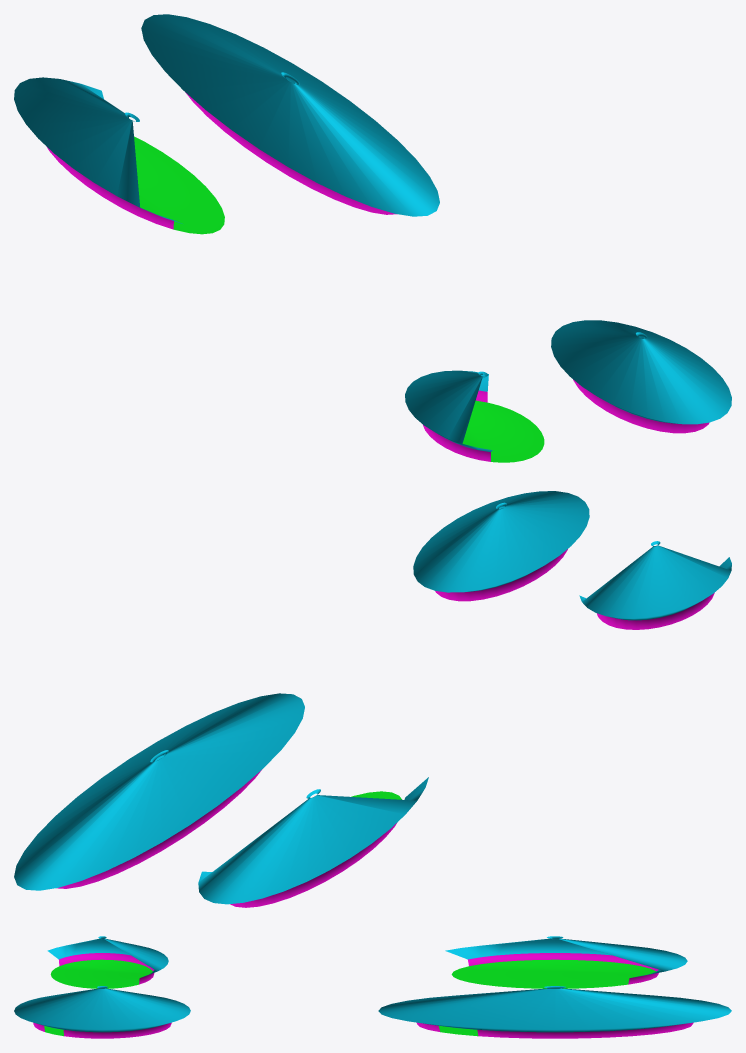
Rendered from choza.fbx.
3 views of the same model, one above another, from view 1: azimuth 30°, elevation 25°; view 2: azimuth 150°, elevation 25°; view 3: azimuth 270°, elevation 25° (orthographic). The views are drawn at different scales.
Visible parts, largest first — view 1: Cylinder, Cylinder.001, Cylinder.003, Cylinder.002; view 2: Cylinder, Cylinder.001, Cylinder.003, Cylinder.002; view 3: Cylinder, Cylinder.001, Cylinder.003, Cylinder.002.
Boxes of the visible parts, <box> form: Cylinder: <box>141,14,439,216</box>; Cylinder.001: <box>14,77,224,234</box>; Cylinder.003: <box>551,320,731,433</box>; Cylinder.002: <box>405,370,544,462</box>; Cylinder: <box>14,693,304,890</box>; Cylinder.001: <box>198,777,428,907</box>; Cylinder.003: <box>413,491,589,601</box>; Cylinder.002: <box>579,541,731,629</box>; Cylinder: <box>378,986,731,1038</box>; Cylinder.001: <box>445,936,687,988</box>; Cylinder.003: <box>14,986,190,1038</box>; Cylinder.002: <box>47,936,168,988</box>.
Size of the model in its own units: 45.4 by 2.58 by 13.04.
